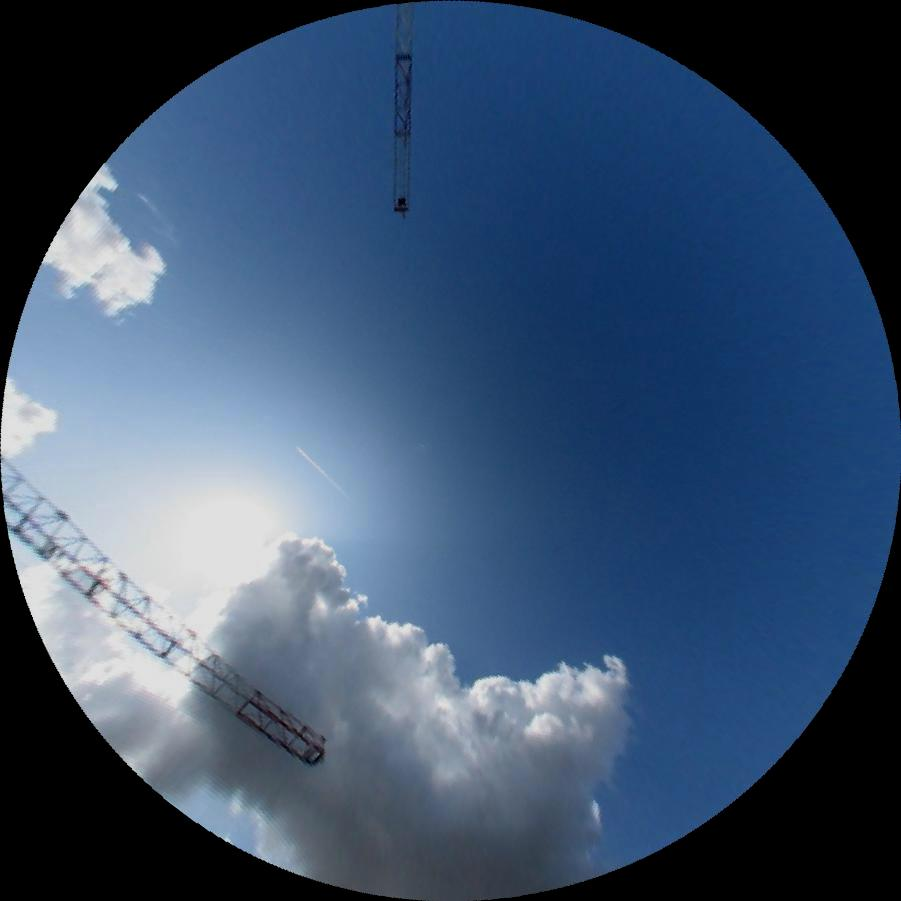contrail young: (293, 443, 356, 506)
sun: (126, 464, 296, 637)
